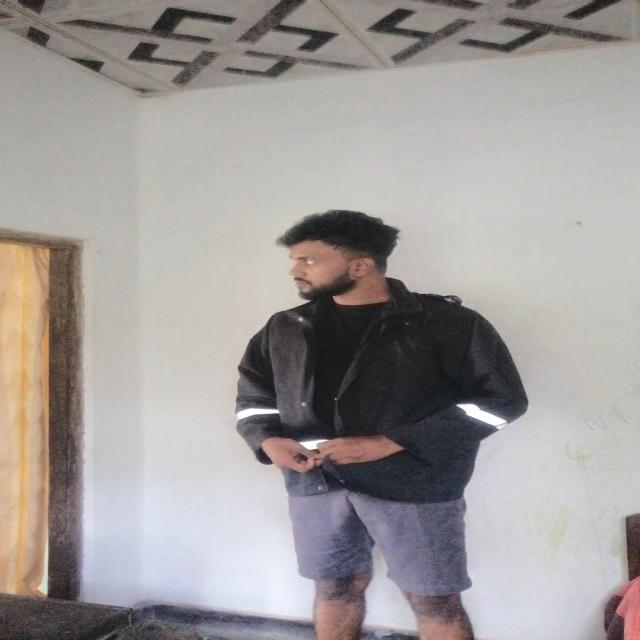Jacket_Wearer: (231, 281, 569, 517)
